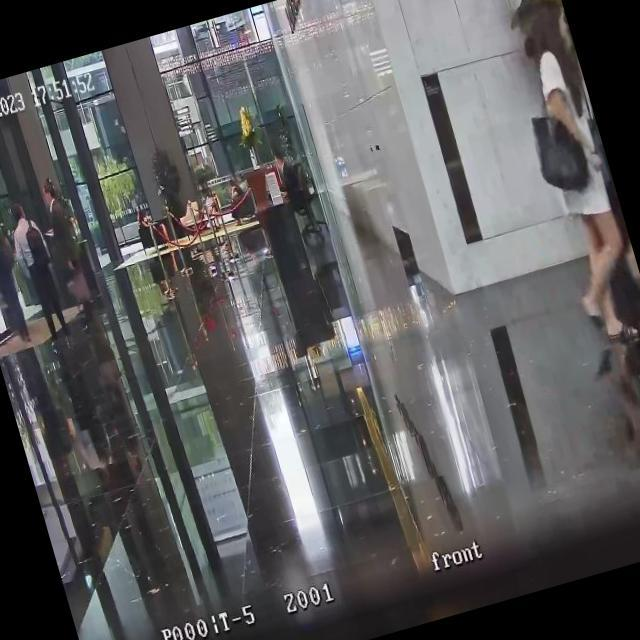person: (505, 17, 640, 347), (2, 196, 76, 351), (36, 174, 102, 328), (0, 201, 38, 347), (134, 201, 175, 256), (268, 147, 304, 209), (222, 177, 255, 229), (201, 186, 223, 228)
